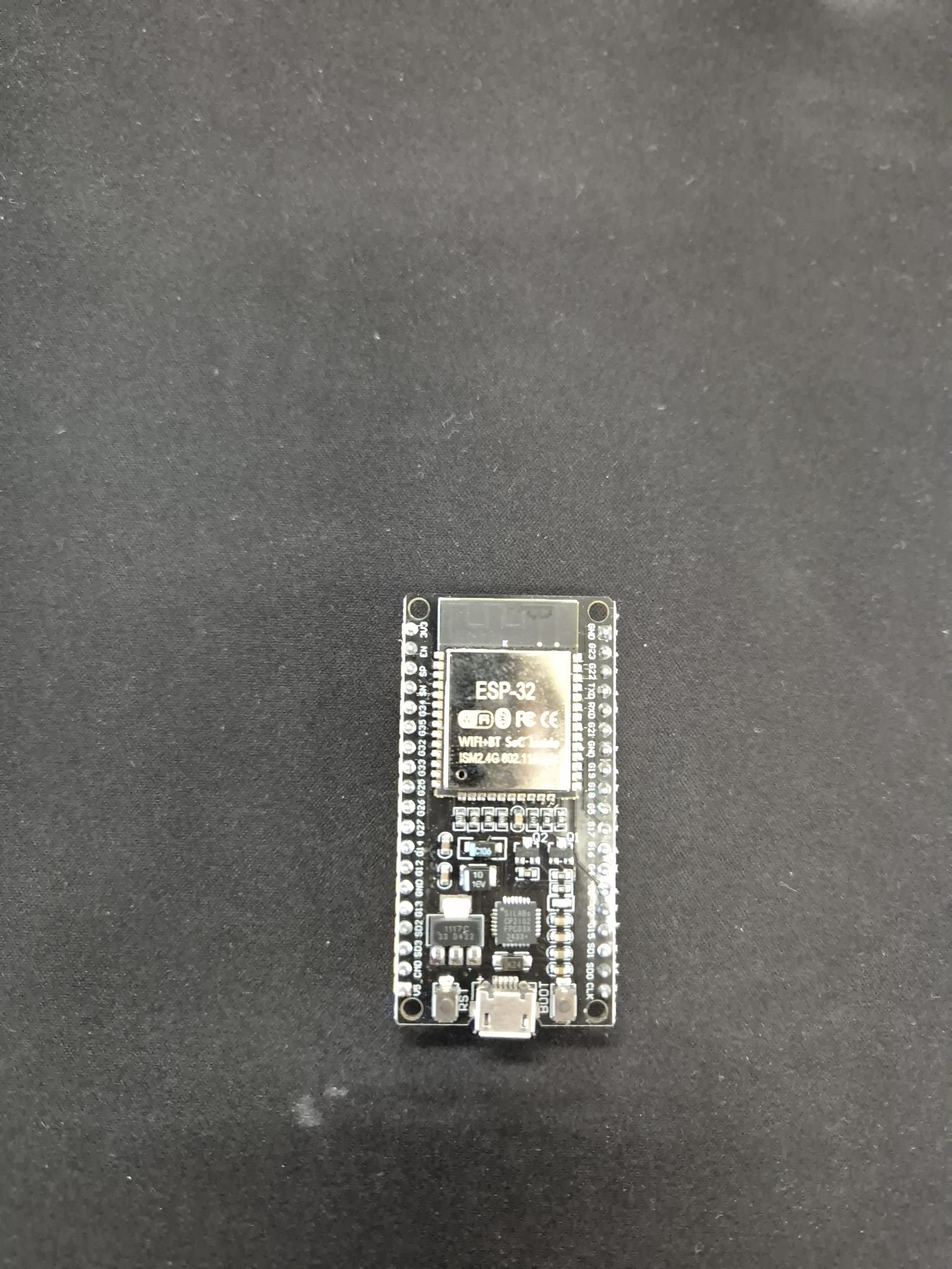esp32-dev: (393, 592, 618, 1041)
